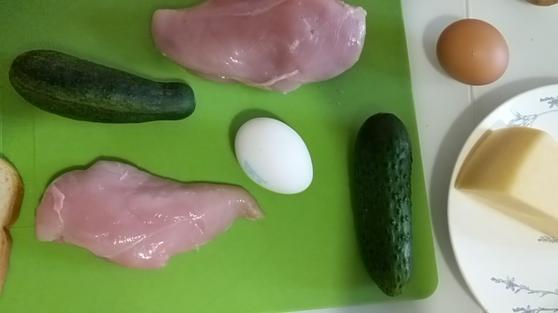cheese: (456, 126, 558, 236)
chicken_fillet: (34, 156, 263, 273), (146, 5, 370, 95)
cucumber: (14, 45, 199, 122), (353, 110, 418, 297)
egg: (231, 113, 315, 195), (438, 17, 511, 85)
